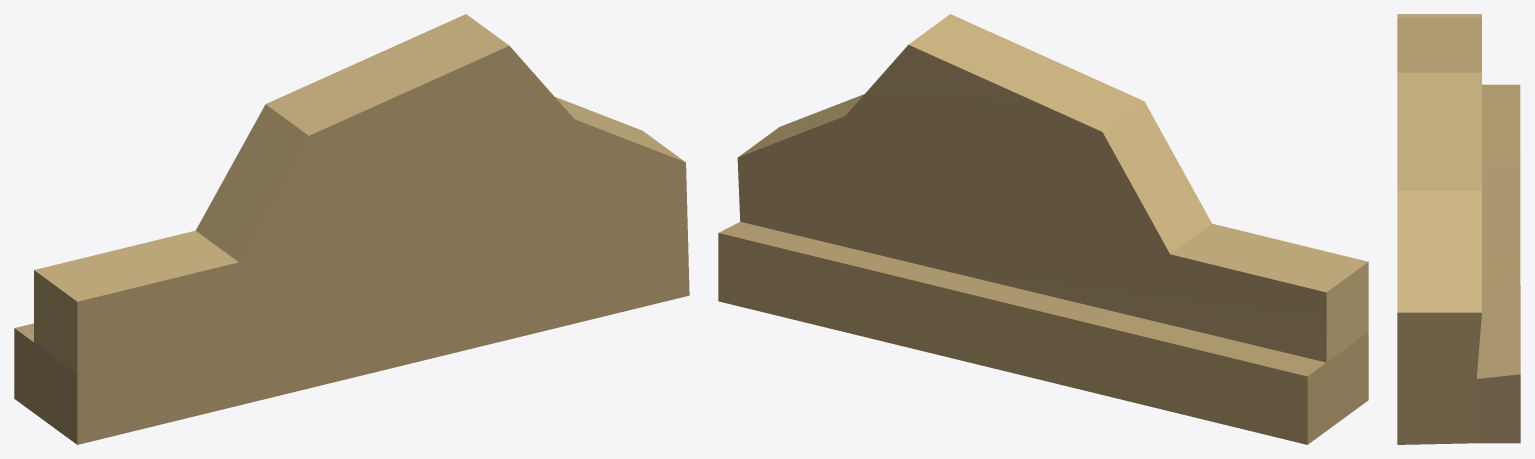
Rendered from SM_Env_Wall_Damaged_02.fbx.
3 renders of one model, left to right at view 1: azimuth 30°, elevation 25°; view 2: azimuth 150°, elevation 25°; view 3: azimuth 270°, elevation 25°, orthographic. The views are drawn at different scales.
Parts seen in each view (by area): view 1: SM_Env_Wall_Damaged_02; view 2: SM_Env_Wall_Damaged_02; view 3: SM_Env_Wall_Damaged_02.
Part boxes in pixels (x1,y1,x2,y2): SM_Env_Wall_Damaged_02: (14, 14, 689, 444); SM_Env_Wall_Damaged_02: (718, 14, 1368, 444); SM_Env_Wall_Damaged_02: (1397, 14, 1520, 444).
Bounding box in the file's own units: 3.46 × 1.59 × 0.6181.
